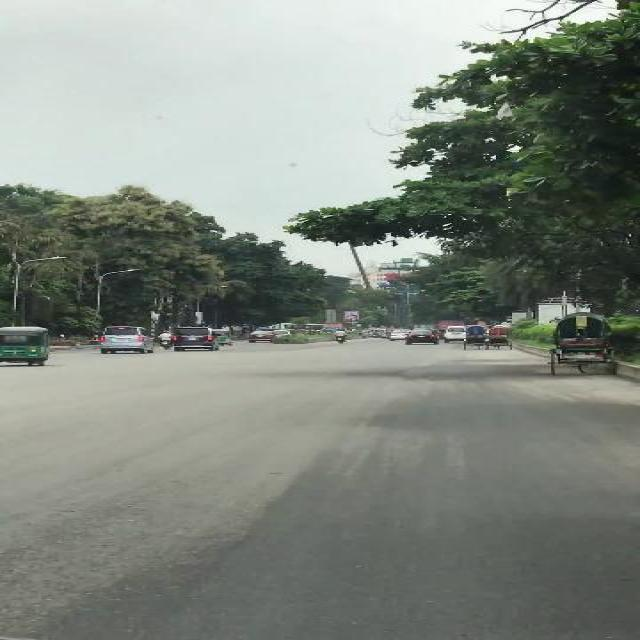car: (406, 330, 438, 344), (245, 330, 274, 342), (388, 329, 404, 338)
minivan: (443, 326, 464, 342)
motorbike: (158, 330, 174, 350), (332, 328, 348, 342)
rickshaw: (544, 312, 615, 376), (486, 324, 509, 350), (463, 326, 486, 350)
three wheelers -CNG-: (0, 324, 52, 368), (217, 328, 231, 346)
van: (97, 326, 155, 354), (172, 326, 218, 350)
